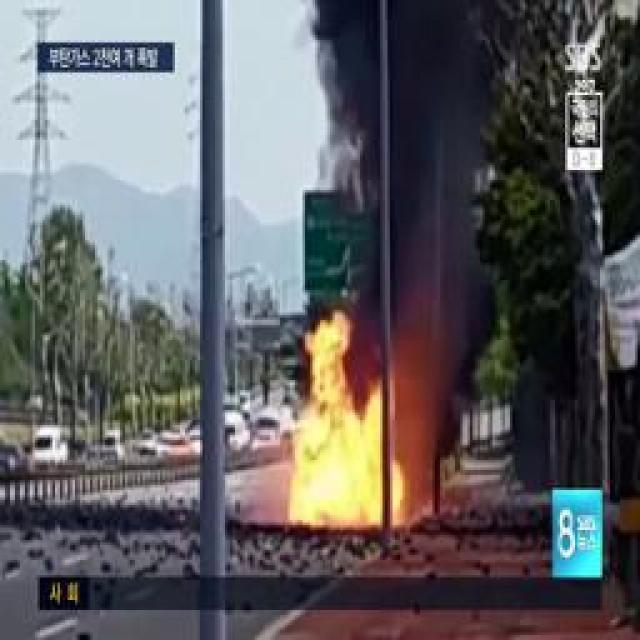Fire: (295, 331, 355, 531), (358, 406, 406, 540)
